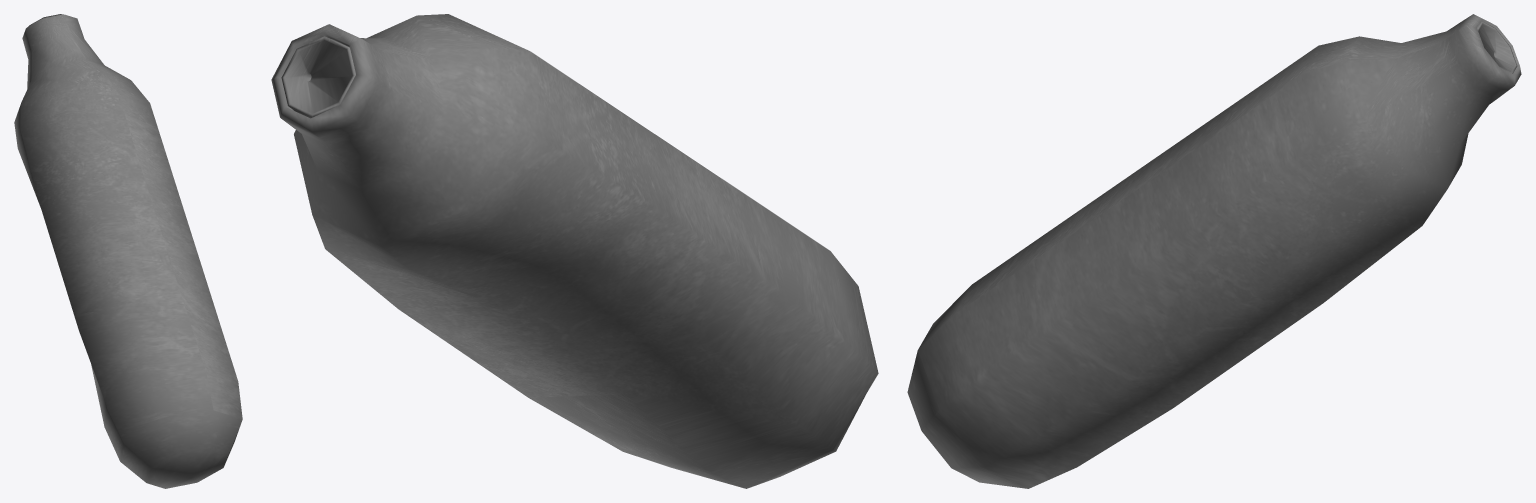
File: GAS17.glb
3 views of the same model, side by side, from view 1: azimuth 30°, elevation 25°; view 2: azimuth 150°, elevation 25°; view 3: azimuth 270°, elevation 25° (orthographic). The views are drawn at different scales.
Parts seen in each view (by area): view 1: BezierCurve.003; view 2: BezierCurve.003; view 3: BezierCurve.003.
Part boxes in pixels (left/top/right/bottom): BezierCurve.003: left=14, top=14, right=242, bottom=488; BezierCurve.003: left=271, top=14, right=878, bottom=488; BezierCurve.003: left=907, top=14, right=1521, bottom=488.
Bounding box in the file's own units: 0.3894 × 0.7956 × 0.9122.
Materials: 1 (1 with a texture image).
